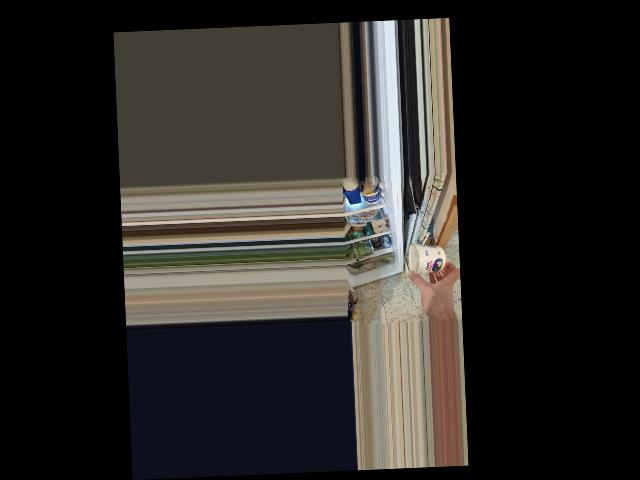cotage: (414, 249, 447, 274)
